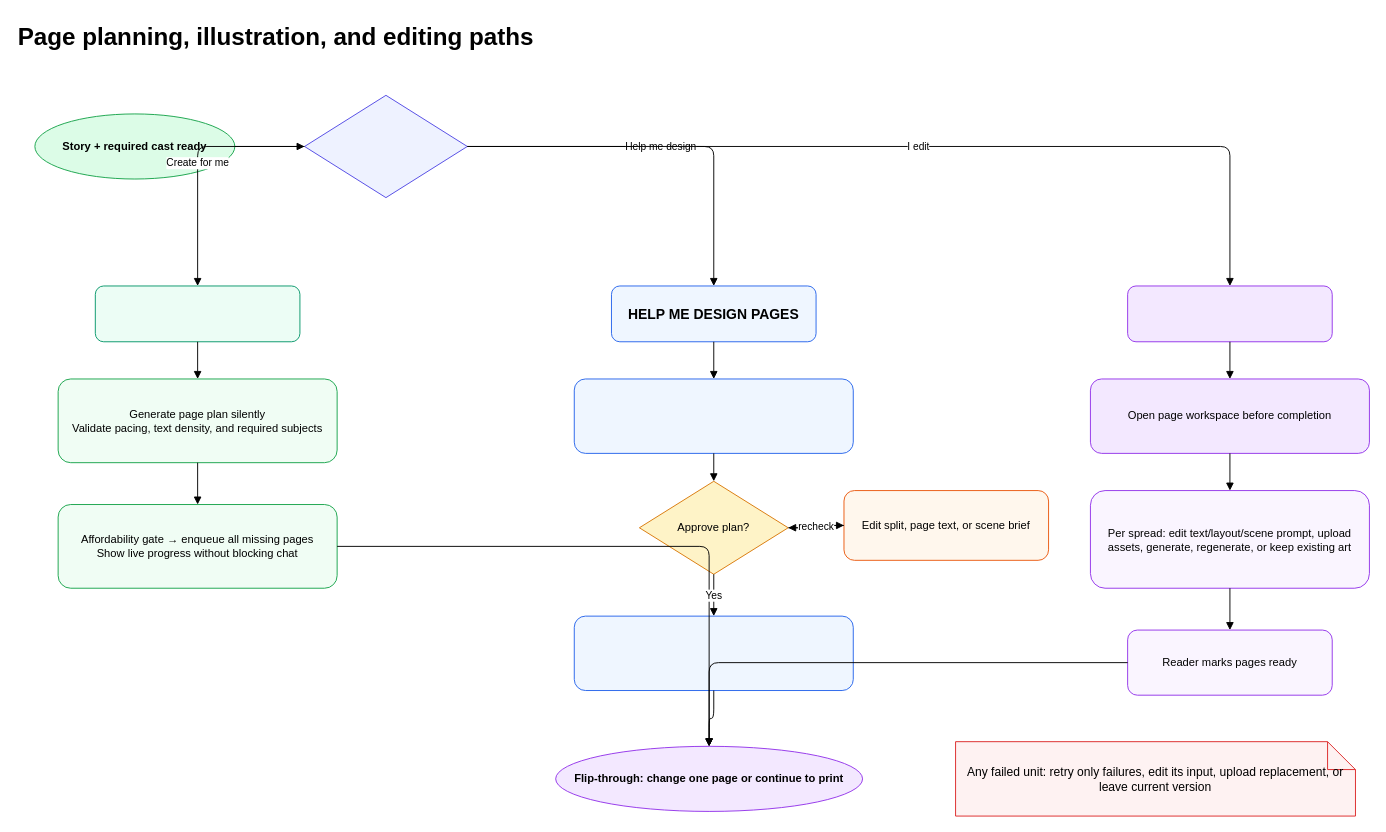
The diagram is 1386 pixels wide and 832 high, and some of its shapes have lost their labels. Here are the shapes that lost their labels. From the top down, the box of each, then its label:
(304, 94, 467, 198): Who creates the pages?
(94, 285, 300, 342): CREATE PAGES FOR ME
(1127, 285, 1332, 342): I’LL EDIT THE PAGES
(573, 378, 853, 453): Generate page plan → open page-plan panel
(573, 615, 853, 691): Render all pages → open flip-through review
